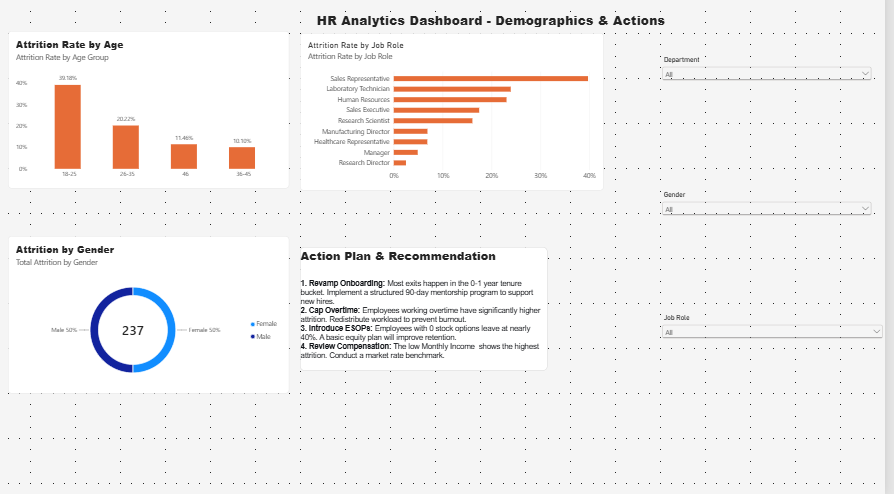

The page's visual inventory and layout, read from the dashboard file:
{"tool":"powerbi","page":{"name":"Demographics","canvas":[1920,1080],"ordinal":2},"visuals":[{"type":"textbox","box":[696,48,768,48],"z":0},{"type":"slicer","fields":{"Values":["Dim_Employee.Department"]},"box":[1440,144,456,216],"z":1},{"type":"slicer","fields":{"Values":["Dim_Employee.Gender"]},"box":[1440,432,456,216],"z":2},{"type":"clusteredColumnChart","title":"Attrition Rate by Age","fields":{"Category":["Dim_Employee.Age Group"],"Y":["Fact_HR.Attrition Rate"]},"box":[48.5,91.7,600,336],"z":3},{"type":"donutChart","title":"Attrition by Gender","fields":{"Category":["Dim_Employee.Gender"],"Y":["Fact_HR.Total Attrition"]},"box":[48,528,600,336],"z":4},{"type":"clusteredBarChart","title":"Attrition Rate by Job Role","fields":{"Category":["Dim_Employee.Job Role"],"Y":["Fact_HR.Attrition Rate"]},"box":[672,96,648,336],"z":5},{"type":"textbox","box":[1296,96,552,48],"z":6},{"type":"textbox","title":"Action Plan & Recommendation","box":[672,552,528,264],"z":7},{"type":"slicer","fields":{"Values":["Dim_Employee.Job Role"]},"box":[1440,696,480,216],"z":8}]}

Visuals, with their boxes in screenshot pixels (x1, y1, x2, y2), scaled from the page's 1920x1080 canvas onto the 894x494 screenshot:
textbox: <region>324, 22, 682, 44</region>
slicer - Dim_Employee.Department: <region>670, 66, 883, 165</region>
slicer - Dim_Employee.Gender: <region>670, 198, 883, 296</region>
"Attrition Rate by Age" clusteredColumnChart: <region>23, 42, 302, 196</region>
"Attrition by Gender" donutChart: <region>22, 242, 302, 395</region>
"Attrition Rate by Job Role" clusteredBarChart: <region>313, 44, 615, 198</region>
textbox: <region>603, 44, 860, 66</region>
"Action Plan & Recommendation" textbox: <region>313, 252, 559, 373</region>
slicer - Dim_Employee.Job Role: <region>670, 318, 893, 417</region>
